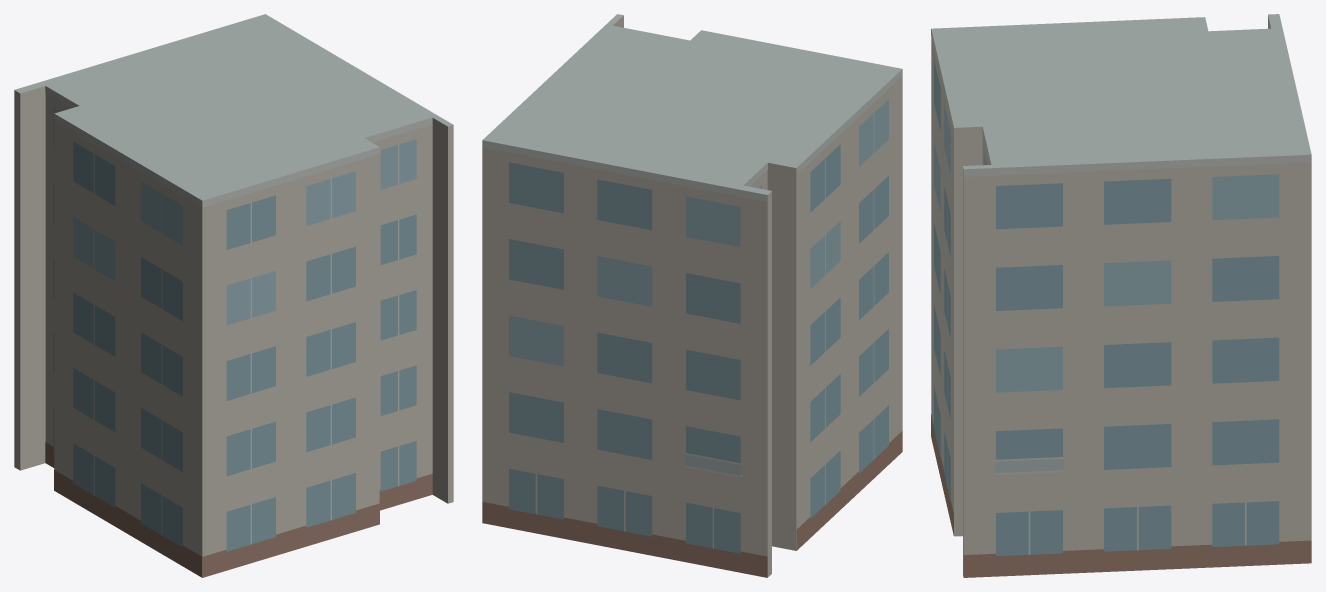
The model's file is survey-upis-32537411.glb.
The picture shows the model from 3 angles, left to right: view 1: azimuth 30°, elevation 25°; view 2: azimuth 150°, elevation 25°; view 3: azimuth 270°, elevation 25°; orthographic projection. The views are drawn at different scales.
Visible parts, largest first — view 1: survey-upis-32537411.tmp; view 2: survey-upis-32537411.tmp; view 3: survey-upis-32537411.tmp.
Boxes of the visible parts, left/top/right/bottom form: survey-upis-32537411.tmp: left=14, top=14, right=453, bottom=577; survey-upis-32537411.tmp: left=482, top=14, right=902, bottom=577; survey-upis-32537411.tmp: left=931, top=14, right=1311, bottom=577.
Bounding box in the file's own units: 10.93 × 13.4 × 11.32.
